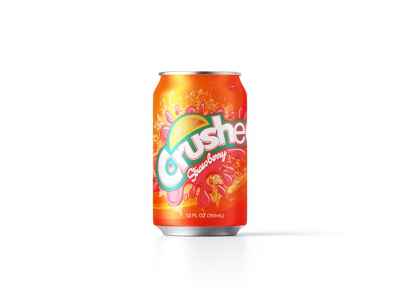can: (151, 70, 249, 238)
